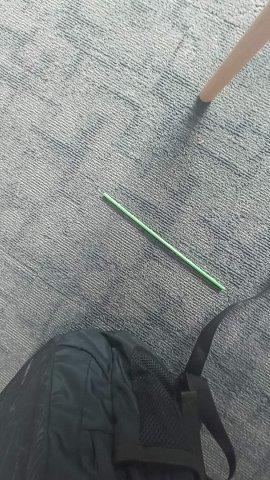sedotan: (104, 195, 223, 291)
